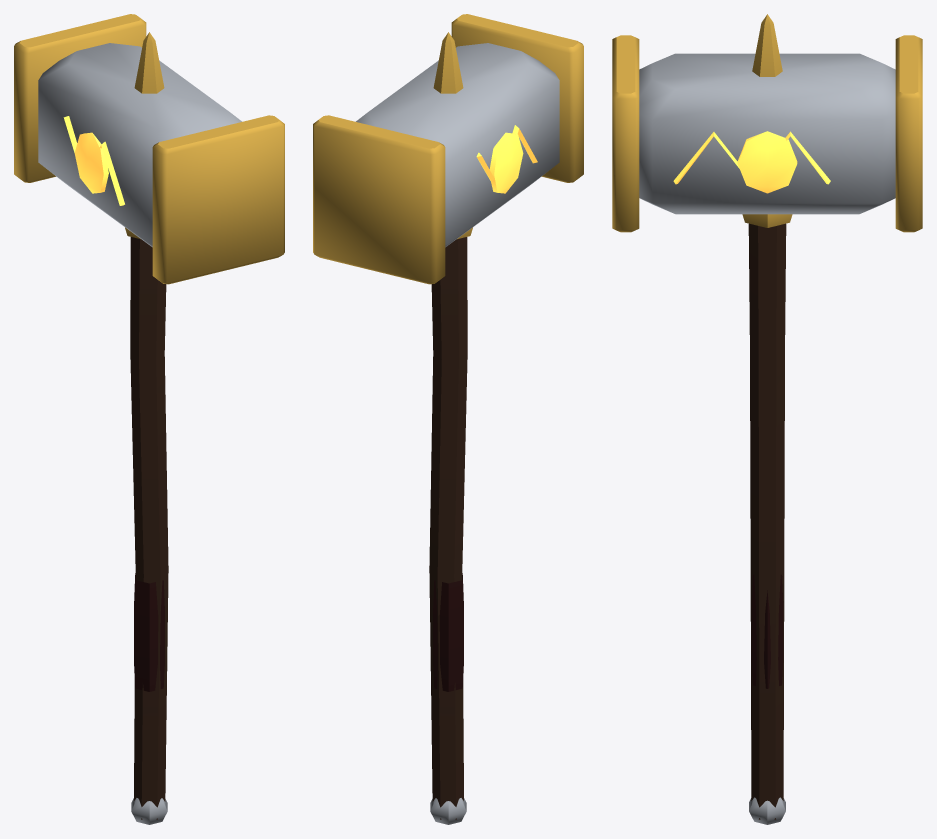
File: warhammer-quake.glb
The picture shows the model from 3 angles, left to right: view 1: azimuth 30°, elevation 25°; view 2: azimuth 150°, elevation 25°; view 3: azimuth 270°, elevation 25°; orthographic projection. The views are drawn at different scales.
Visible parts, largest first — view 1: warhammer-quake; view 2: warhammer-quake; view 3: warhammer-quake.
Boxes of the visible parts, bbox=[...] form: warhammer-quake: bbox=[14, 14, 284, 824]; warhammer-quake: bbox=[313, 14, 583, 824]; warhammer-quake: bbox=[612, 14, 922, 824].
Size of the model in its own units: 0.196 by 1.17 by 0.405.
